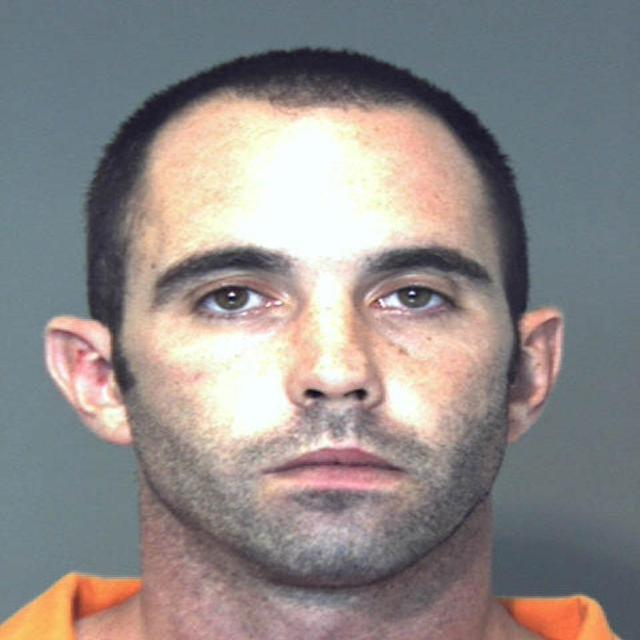Face: (86, 74, 540, 576)
